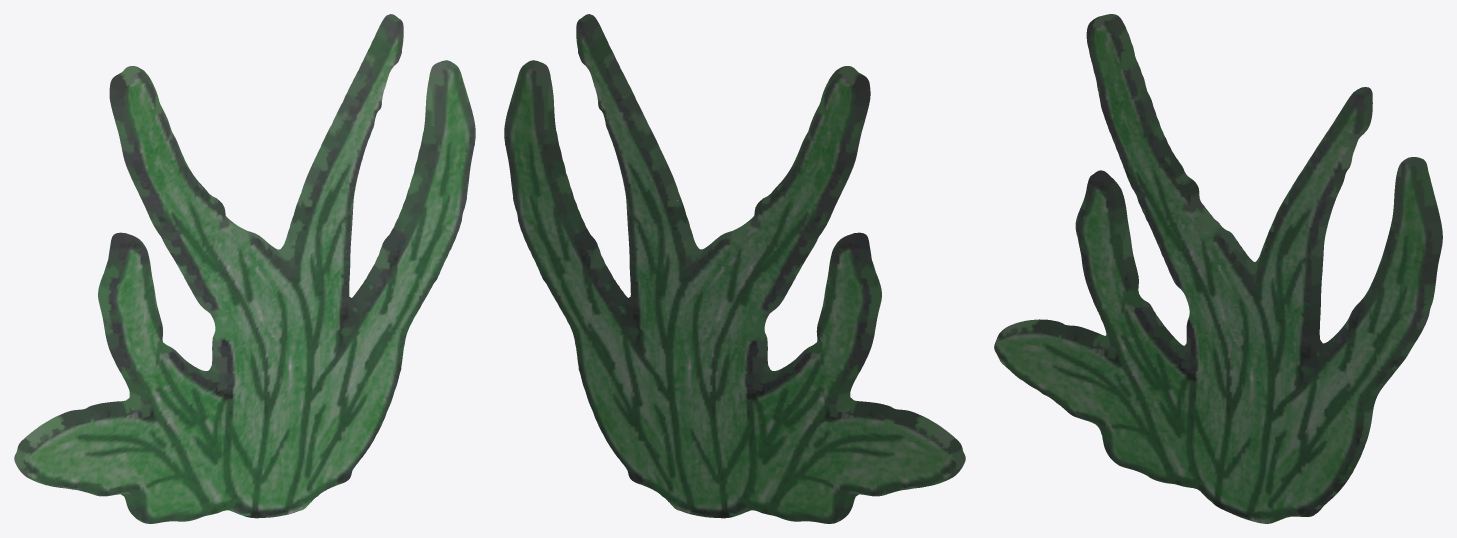
Rendered from seaweed_l.gltf.
3 views of the same model, side by side, from view 1: azimuth 30°, elevation 25°; view 2: azimuth 150°, elevation 25°; view 3: azimuth 330°, elevation 25° (orthographic). The views are drawn at different scales.
Size of the model in its own units: 0.2384 by 0.2406 by 0.01.
